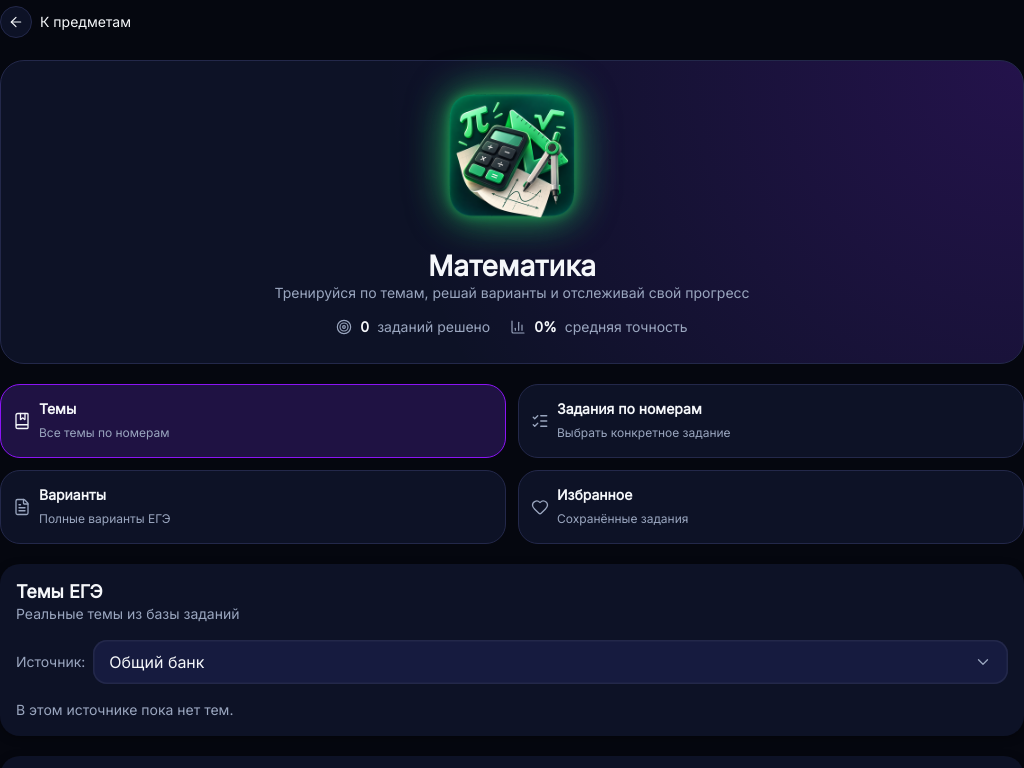
Test: SubjectDesktop — Варианты (real collections, source isolation) › lets picking individual task numbers and a real collection source, updating the summary
The width and height of the screenshot is (1024, 768).
Step 1. Click the text "Полные варианты ЕГЭ" → (105, 519), box [39,507,170,531]
(page scrolled)
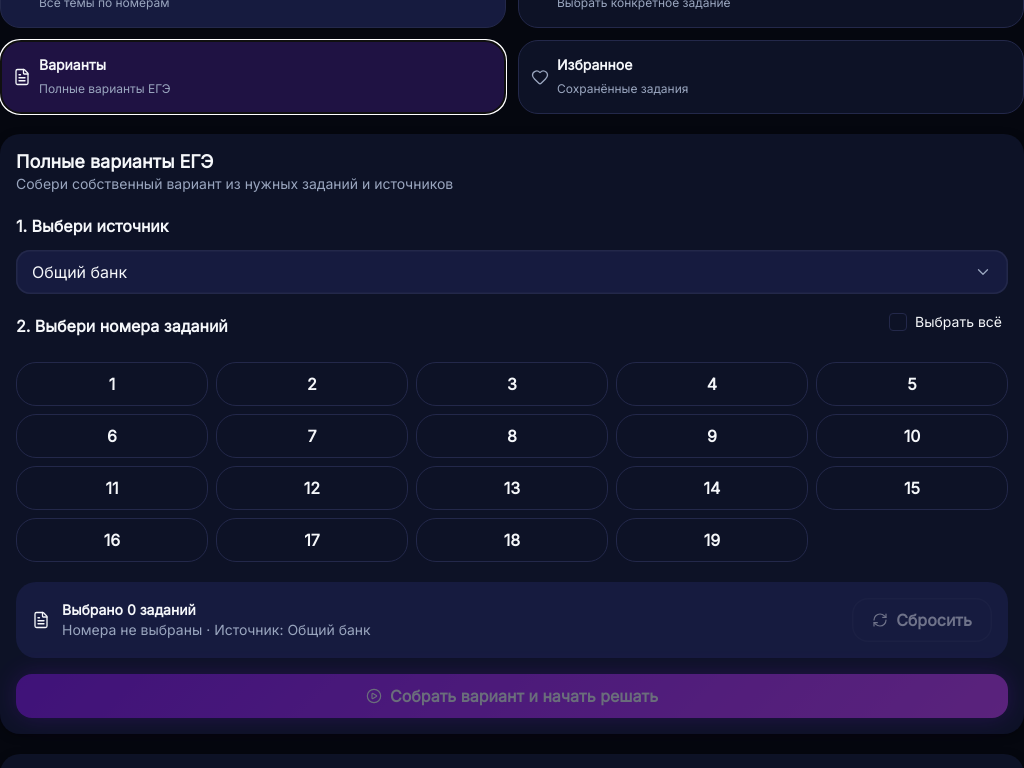
Expected: the text "Собери собственный вариант из нужных заданий и источников" is shown, [16,175,453,192]
Step 2. Click the button "1" → (112, 384), box [16,362,208,406]
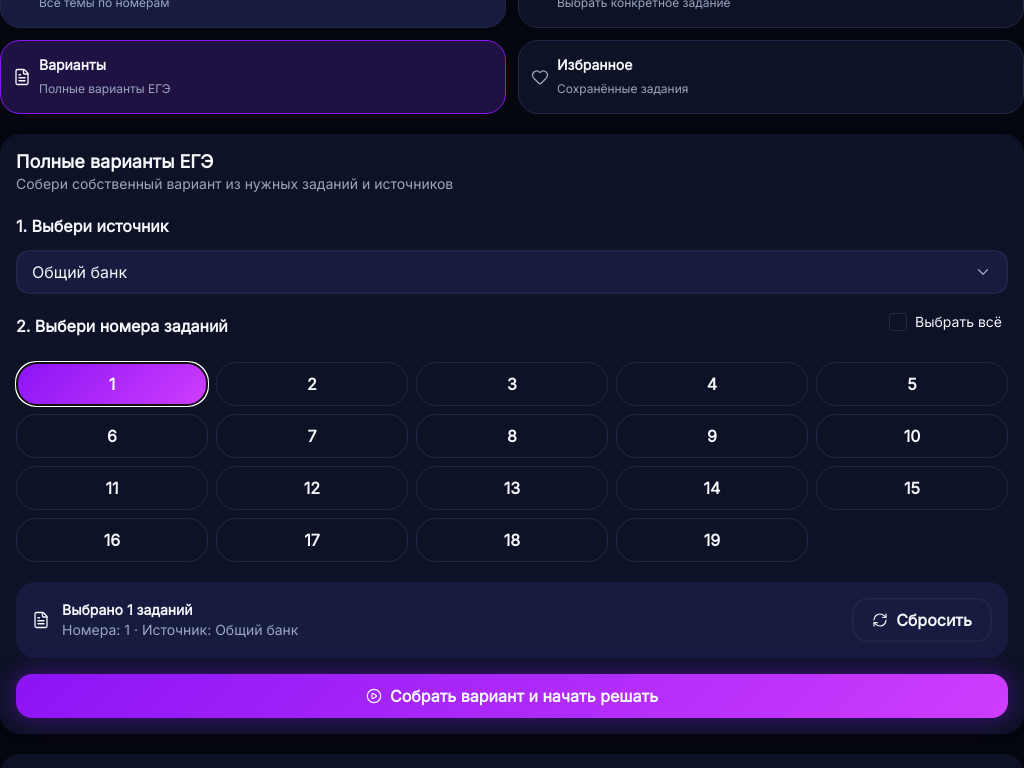
Step 3. Click the button "2" → (312, 384), box [216,362,408,406]
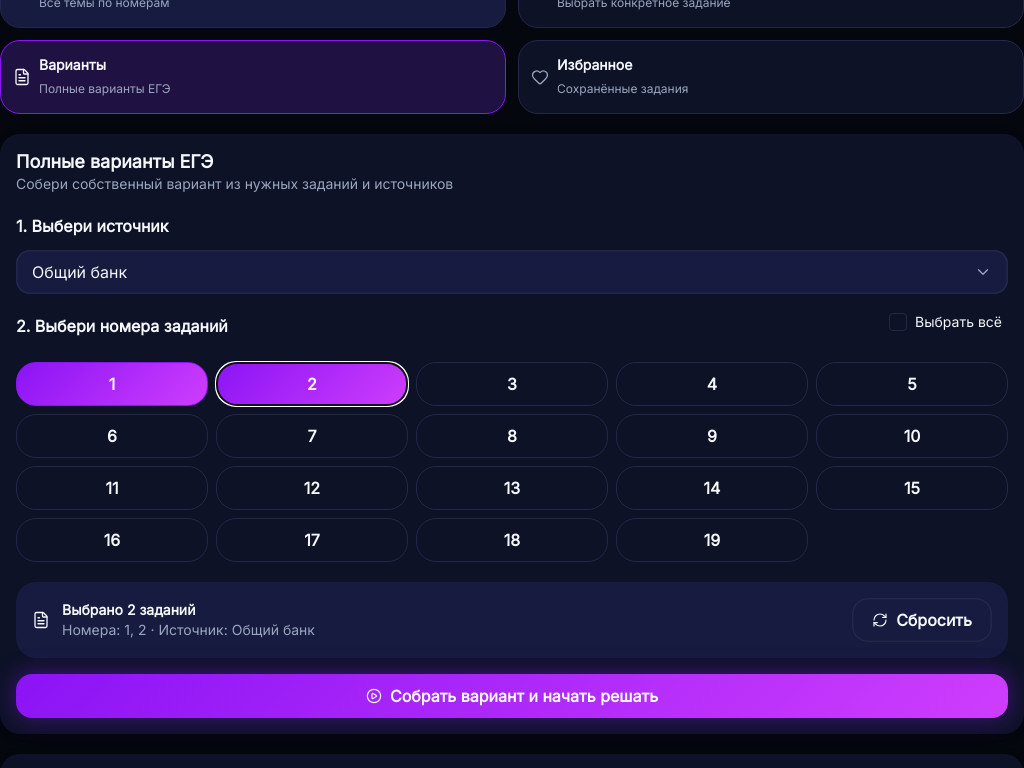
Expected: the text "Выбрано 2 заданий" is shown, [62,601,195,618]
Expected: the text "Номера: 1, 2 · Источник: Общий банк" is shown, [62,621,315,638]
Step 4. Click the button "Общий банк" → (80, 272), box [16,250,1008,294]
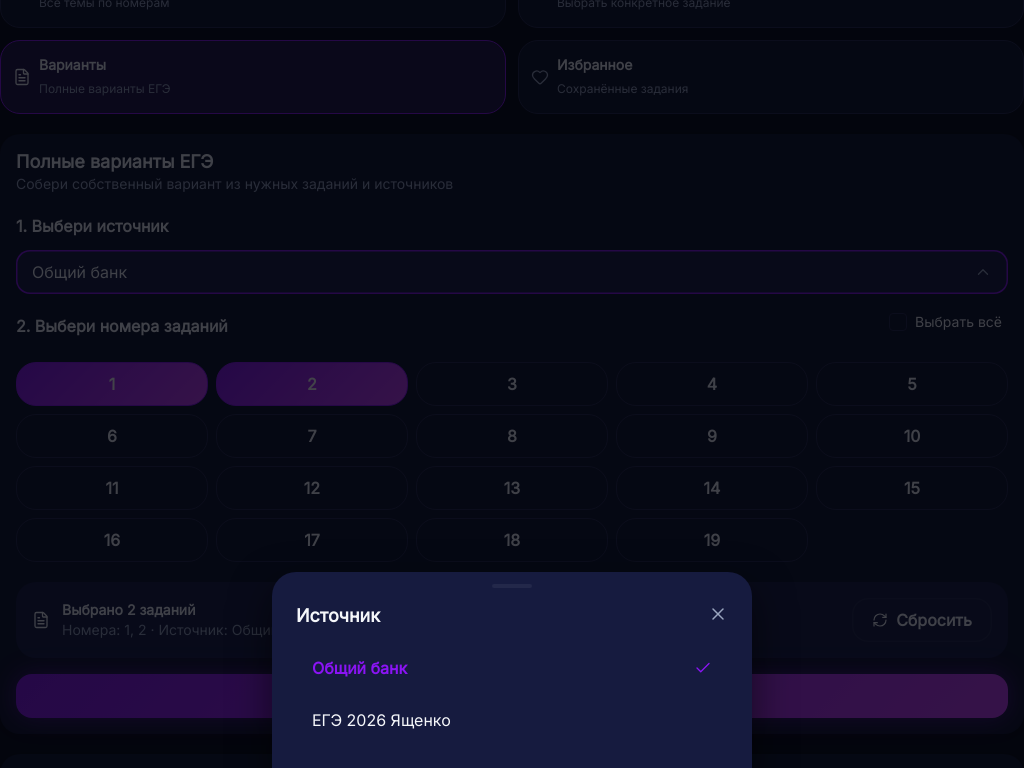
Step 5. Click the option "ЕГЭ 2026 Ященко" → (381, 720), box [296,696,728,744]
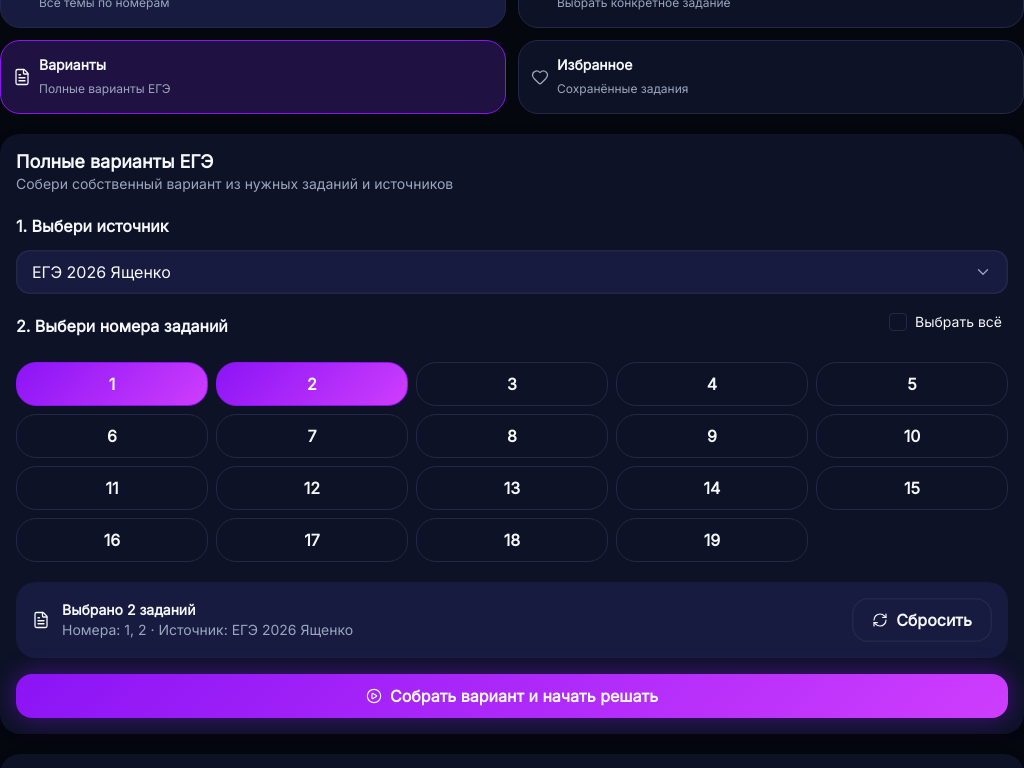
Expected: the text "Номера: 1, 2 · Источник: ЕГЭ 2026 Ященко" is shown, [62,621,353,638]
